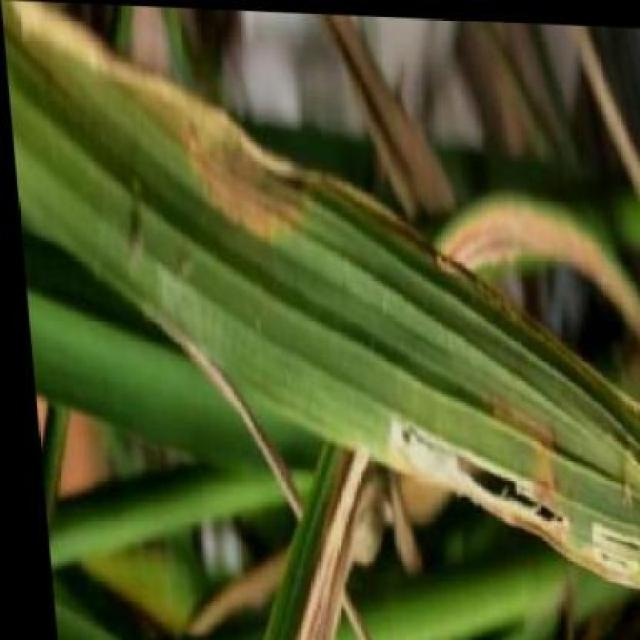Brown_Spot: (7, 70, 339, 342)
